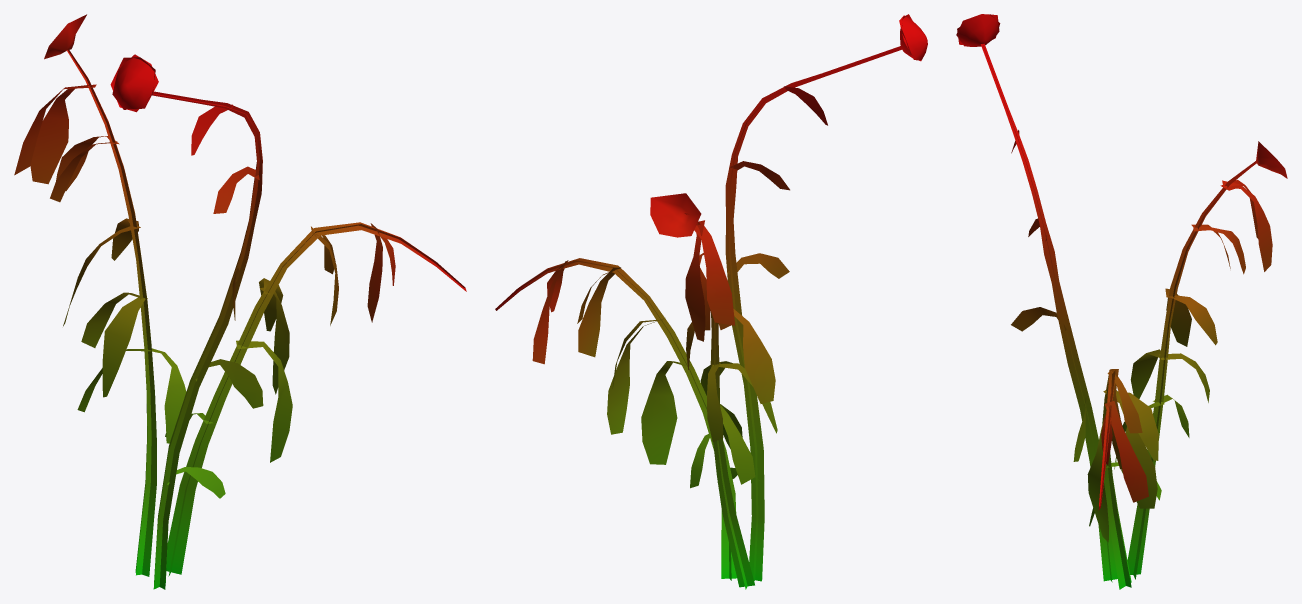
Rendered from Shore Groundsel_LOD0_Var5_ucrlaheia.fbx.
The picture shows the model from 3 angles, left to right: view 1: azimuth 30°, elevation 25°; view 2: azimuth 150°, elevation 25°; view 3: azimuth 270°, elevation 25°; orthographic projection. The views are drawn at different scales.
Visible parts, largest first — view 1: _6c54_Var5_LOD0; view 2: _6c54_Var5_LOD0; view 3: _6c54_Var5_LOD0.
Boxes of the visible parts, box(x1,y1,x2,y2) form: _6c54_Var5_LOD0: box(14, 14, 466, 589); _6c54_Var5_LOD0: box(495, 14, 927, 589); _6c54_Var5_LOD0: box(956, 14, 1287, 589).
Size of the model in its own units: 14.38 by 19.99 by 11.39.
